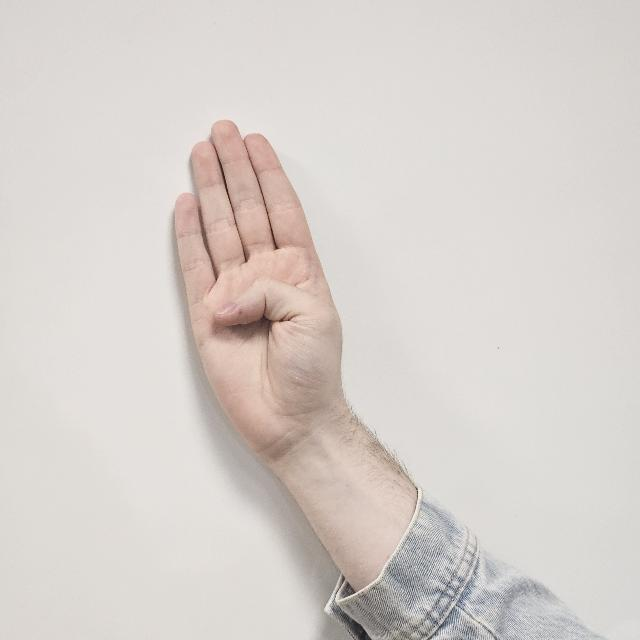Baixo: (161, 112, 359, 480)
